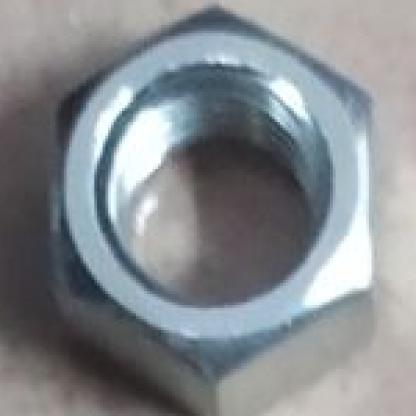FOD: (25, 3, 394, 413)
